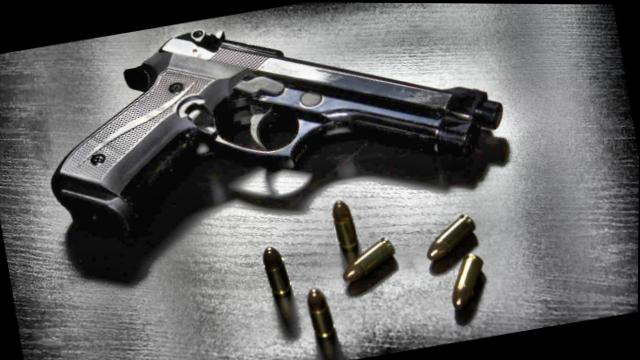pistol: (34, 0, 532, 288)
